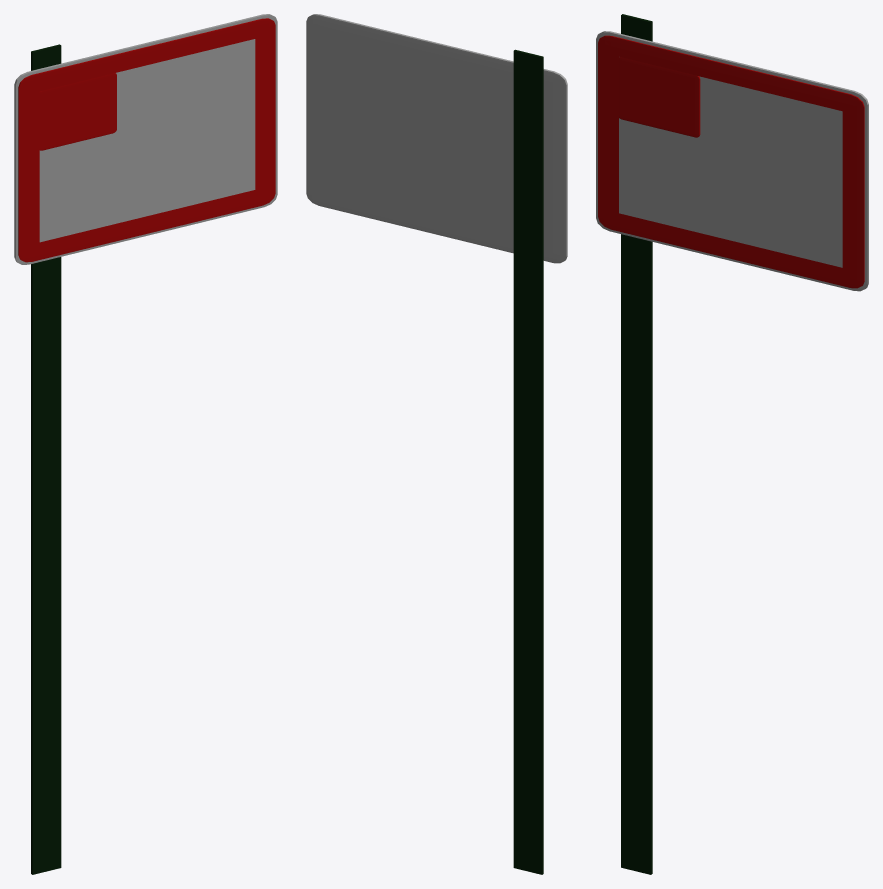
The model's file is signtest.obj.
3 renders of one model, left to right at view 1: azimuth 30°, elevation 25°; view 2: azimuth 150°, elevation 25°; view 3: azimuth 330°, elevation 25°, orthographic. The views are drawn at different scales.
Visible parts, largest first — view 1: Cube_Cube.001, Cube.001_Cube.002, Cube.002_Cube.000, Cube.003; view 2: Cube_Cube.001, Cube.001_Cube.002; view 3: Cube_Cube.001, Cube.001_Cube.002, Cube.002_Cube.000, Cube.003.
Boxes of the visible parts, x1,y1,x2,y2 form: Cube_Cube.001: (14,14,277,264); Cube.001_Cube.002: (31,44,61,874); Cube.002_Cube.000: (18,18,275,262); Cube.003: (39,73,116,150); Cube_Cube.001: (306,14,567,263); Cube.001_Cube.002: (513,49,543,874); Cube_Cube.001: (596,31,868,291); Cube.001_Cube.002: (621,14,652,874); Cube.002_Cube.000: (598,35,864,288); Cube.003: (619,57,700,137).
Size of the model in its own units: 1 by 3 by 0.0401.
